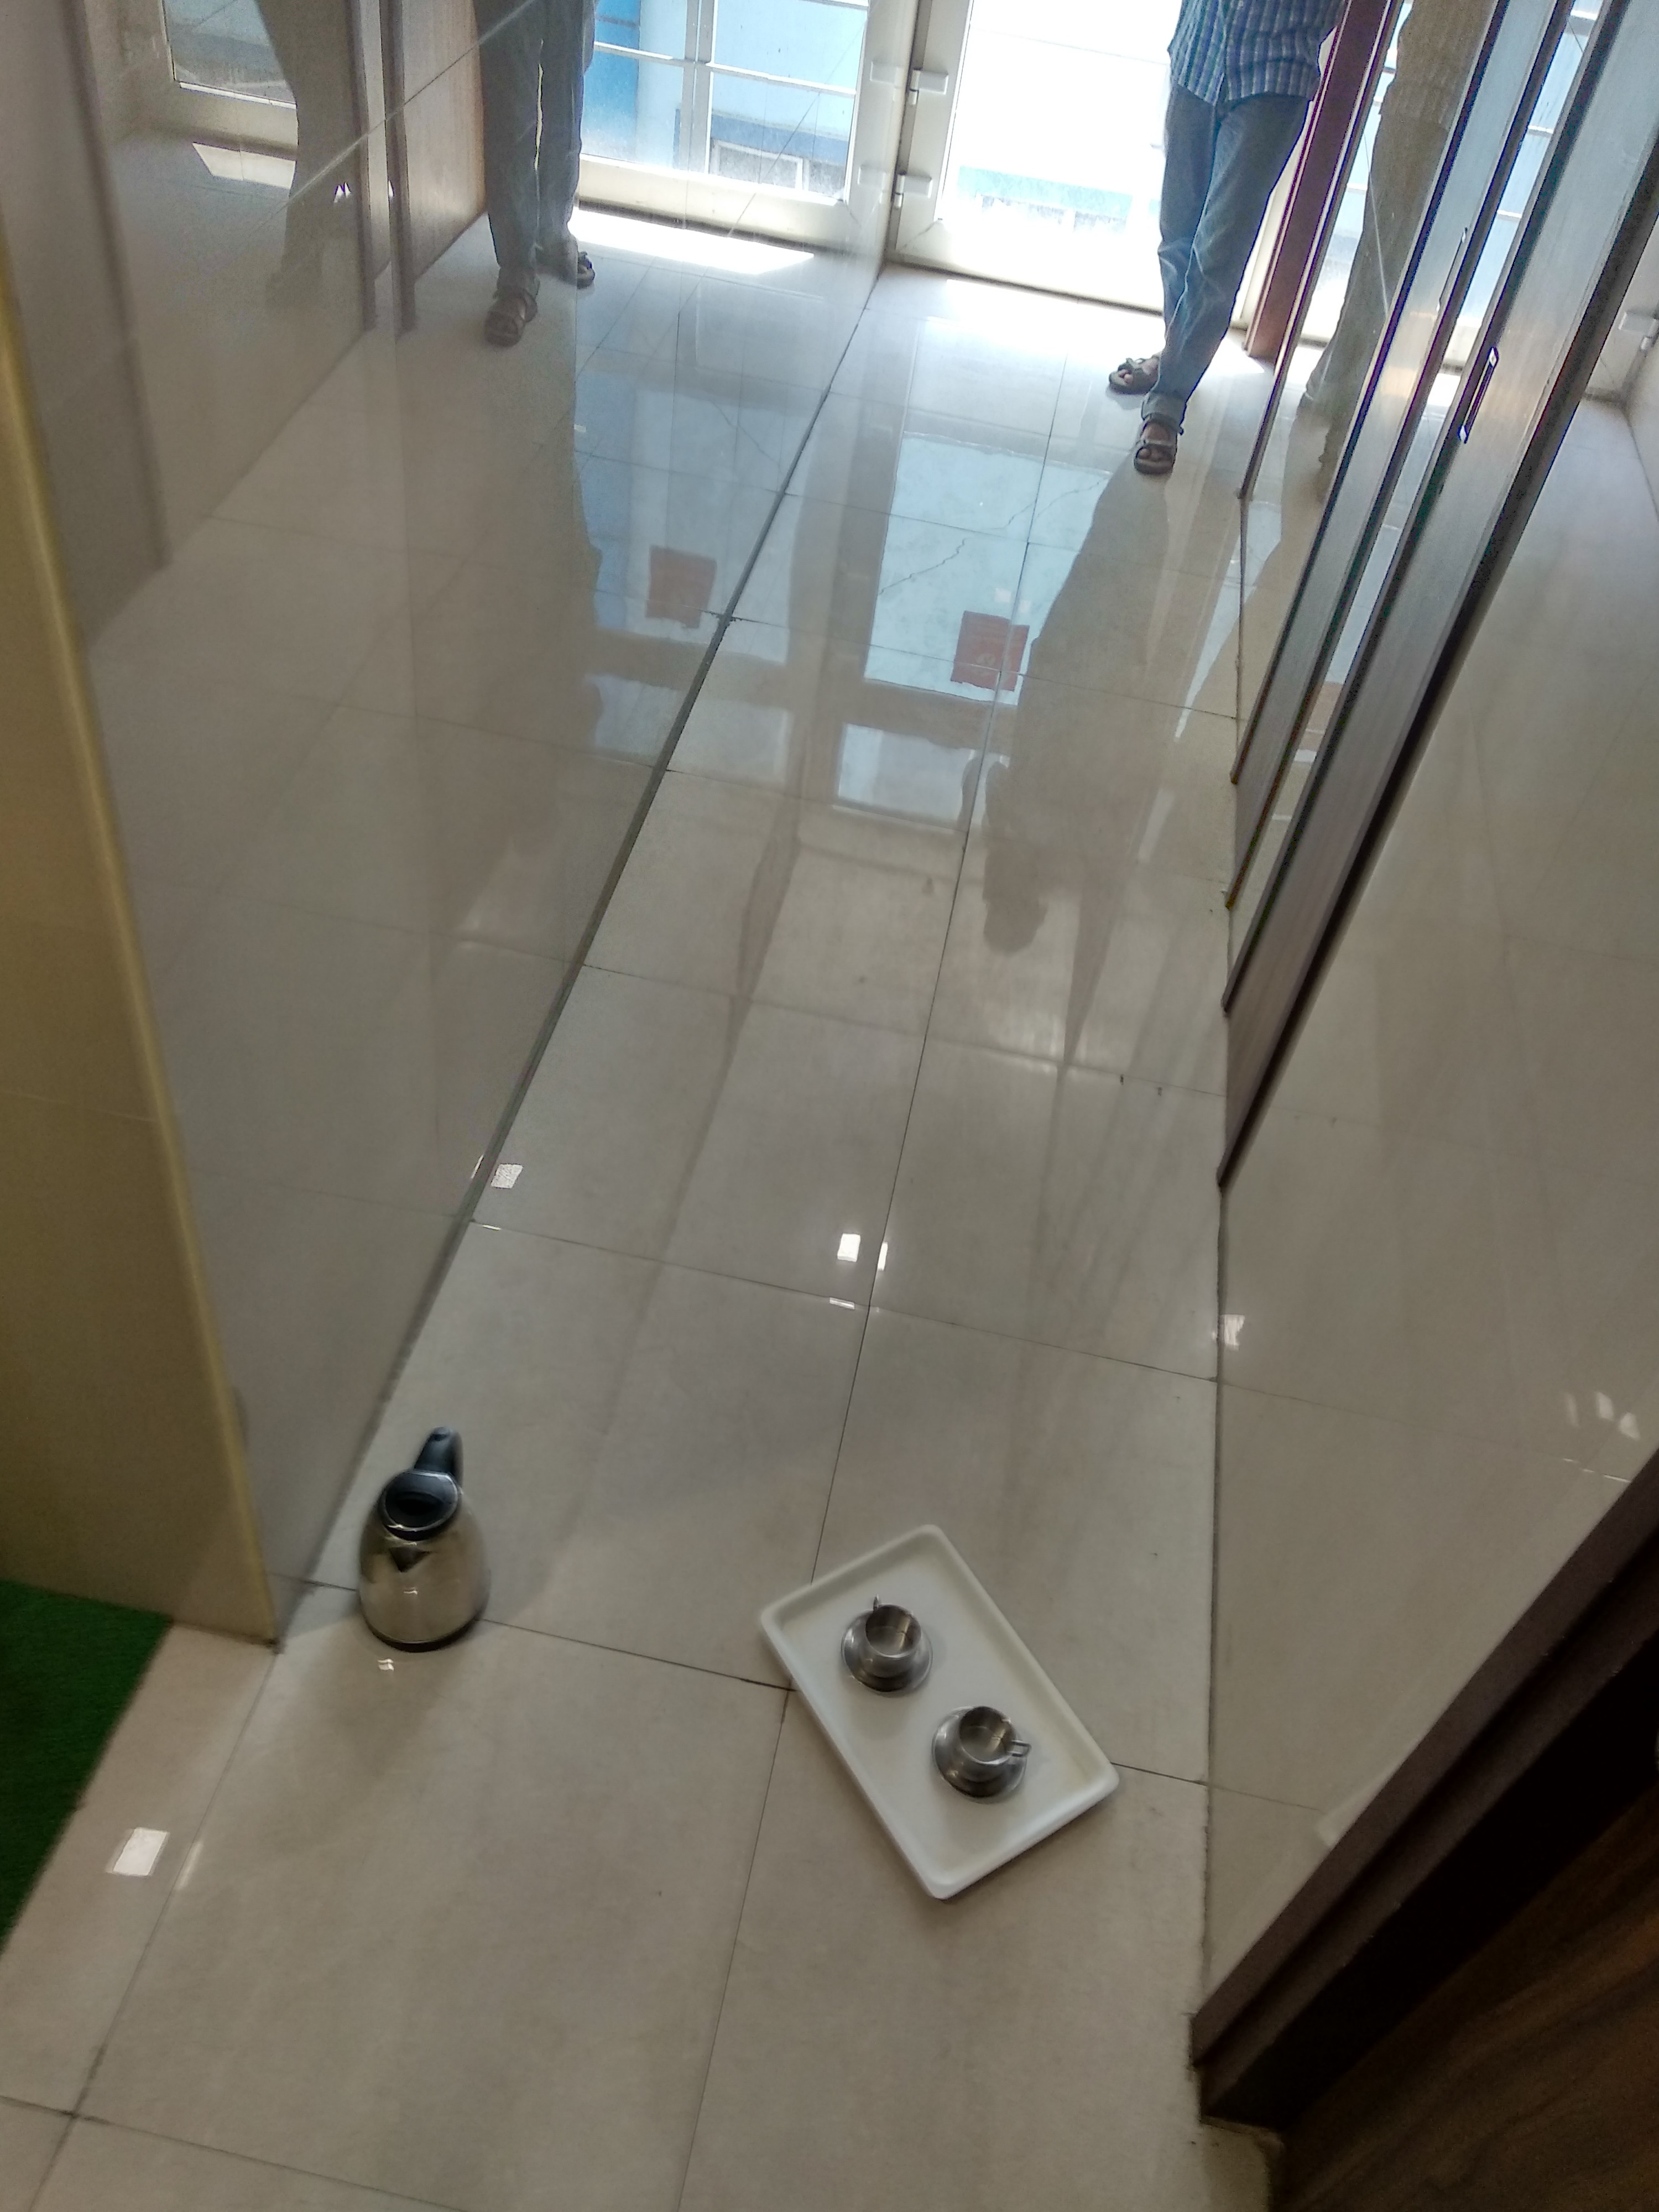CUP: (936, 1705, 1035, 1799), (840, 1592, 931, 1693)
JUG: (350, 1454, 490, 1656)
